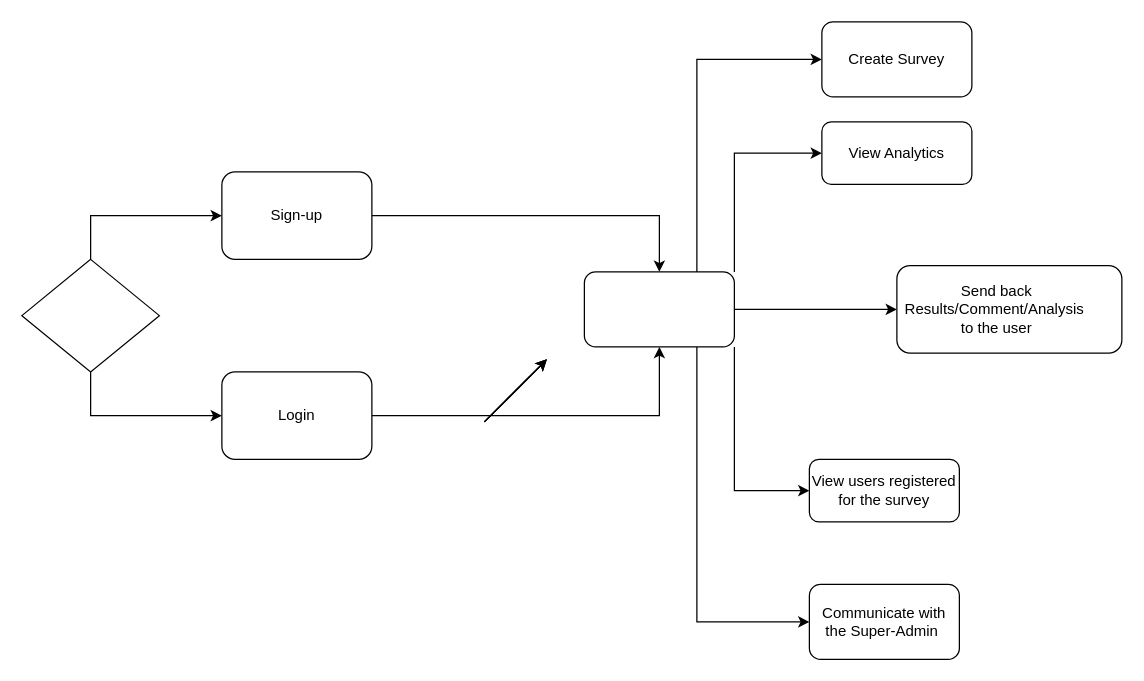
Image size: 1144x681. Some labels were removed from this diagram. The shapes that lost their labels are listed below. From the top down, each one's centre as x and y in pixels, then its label:
At (90,315): "Start".
At (658,309): "Dashboard".
